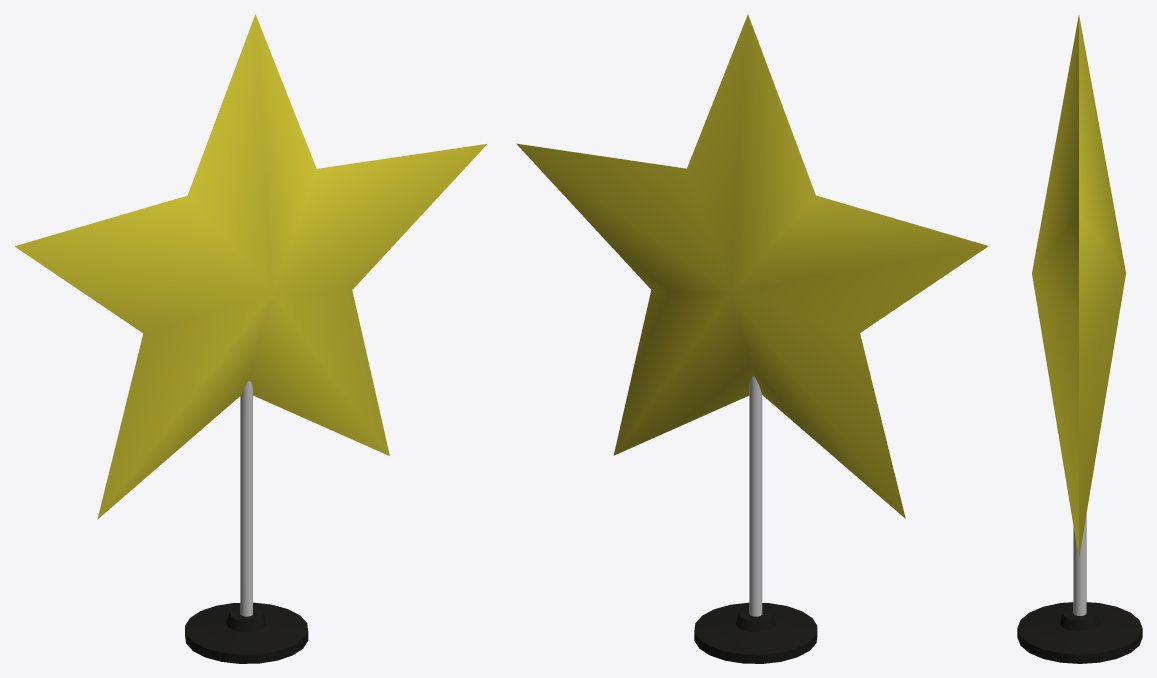
The model's file is star.fbx.
3 views of the same model, side by side, from view 1: azimuth 30°, elevation 25°; view 2: azimuth 150°, elevation 25°; view 3: azimuth 270°, elevation 25° (orthographic).
Parts seen in each view (by area): view 1: pCylinder2, pCylinder1; view 2: pCylinder2, pCylinder1; view 3: pCylinder2, pCylinder1.
Boxes of the visible parts, <box> form: pCylinder2: <box>15,14,486,518</box>; pCylinder1: <box>185,381,308,663</box>; pCylinder2: <box>516,14,988,518</box>; pCylinder1: <box>694,376,817,663</box>; pCylinder2: <box>1032,15,1125,558</box>; pCylinder1: <box>1017,514,1142,663</box>.
Bounding box in the file's own units: 2.65 × 3.32 × 0.6.
